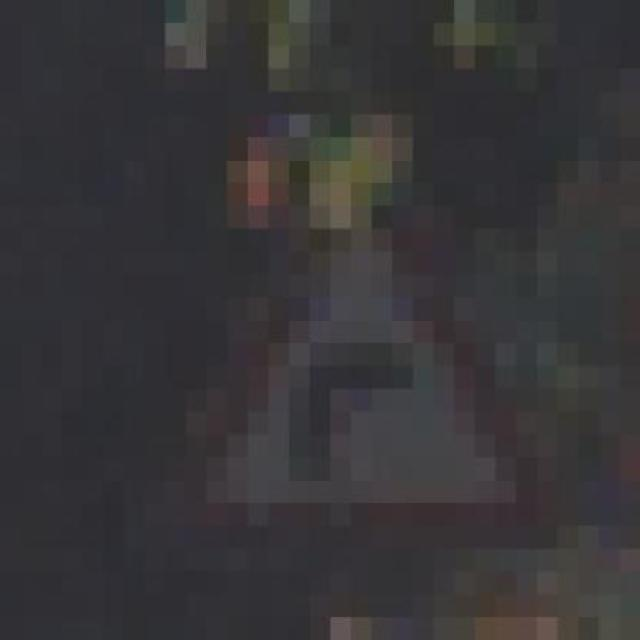Dangerous Rright Curve Ahead: (124, 183, 578, 572)
